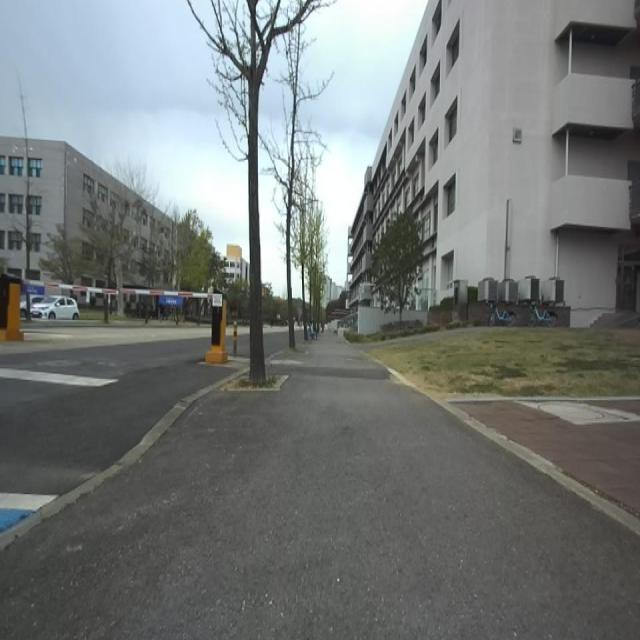sidewalk: (0, 337, 640, 639), (0, 368, 246, 551)
